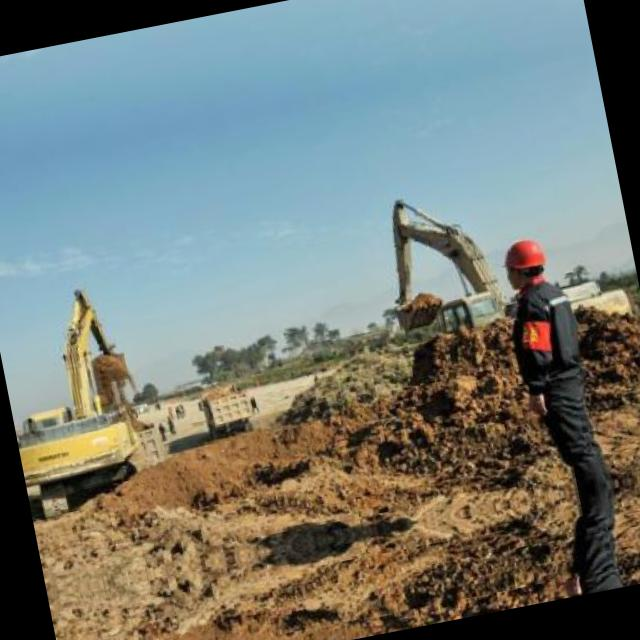helmet: (496, 231, 554, 292)
